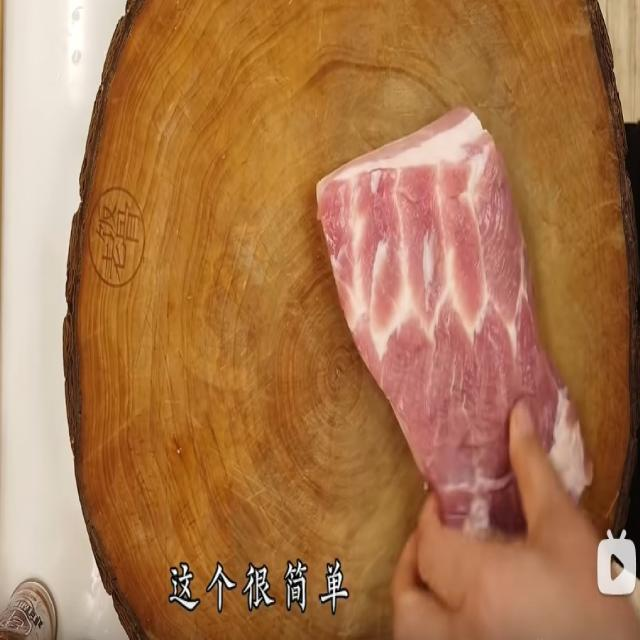pork: (314, 105, 589, 542)
